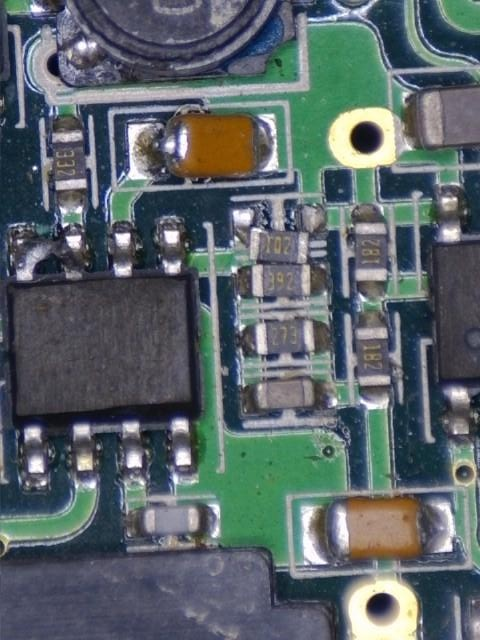pcb_defect: (128, 113, 279, 179), (232, 205, 326, 264), (7, 223, 82, 281)
